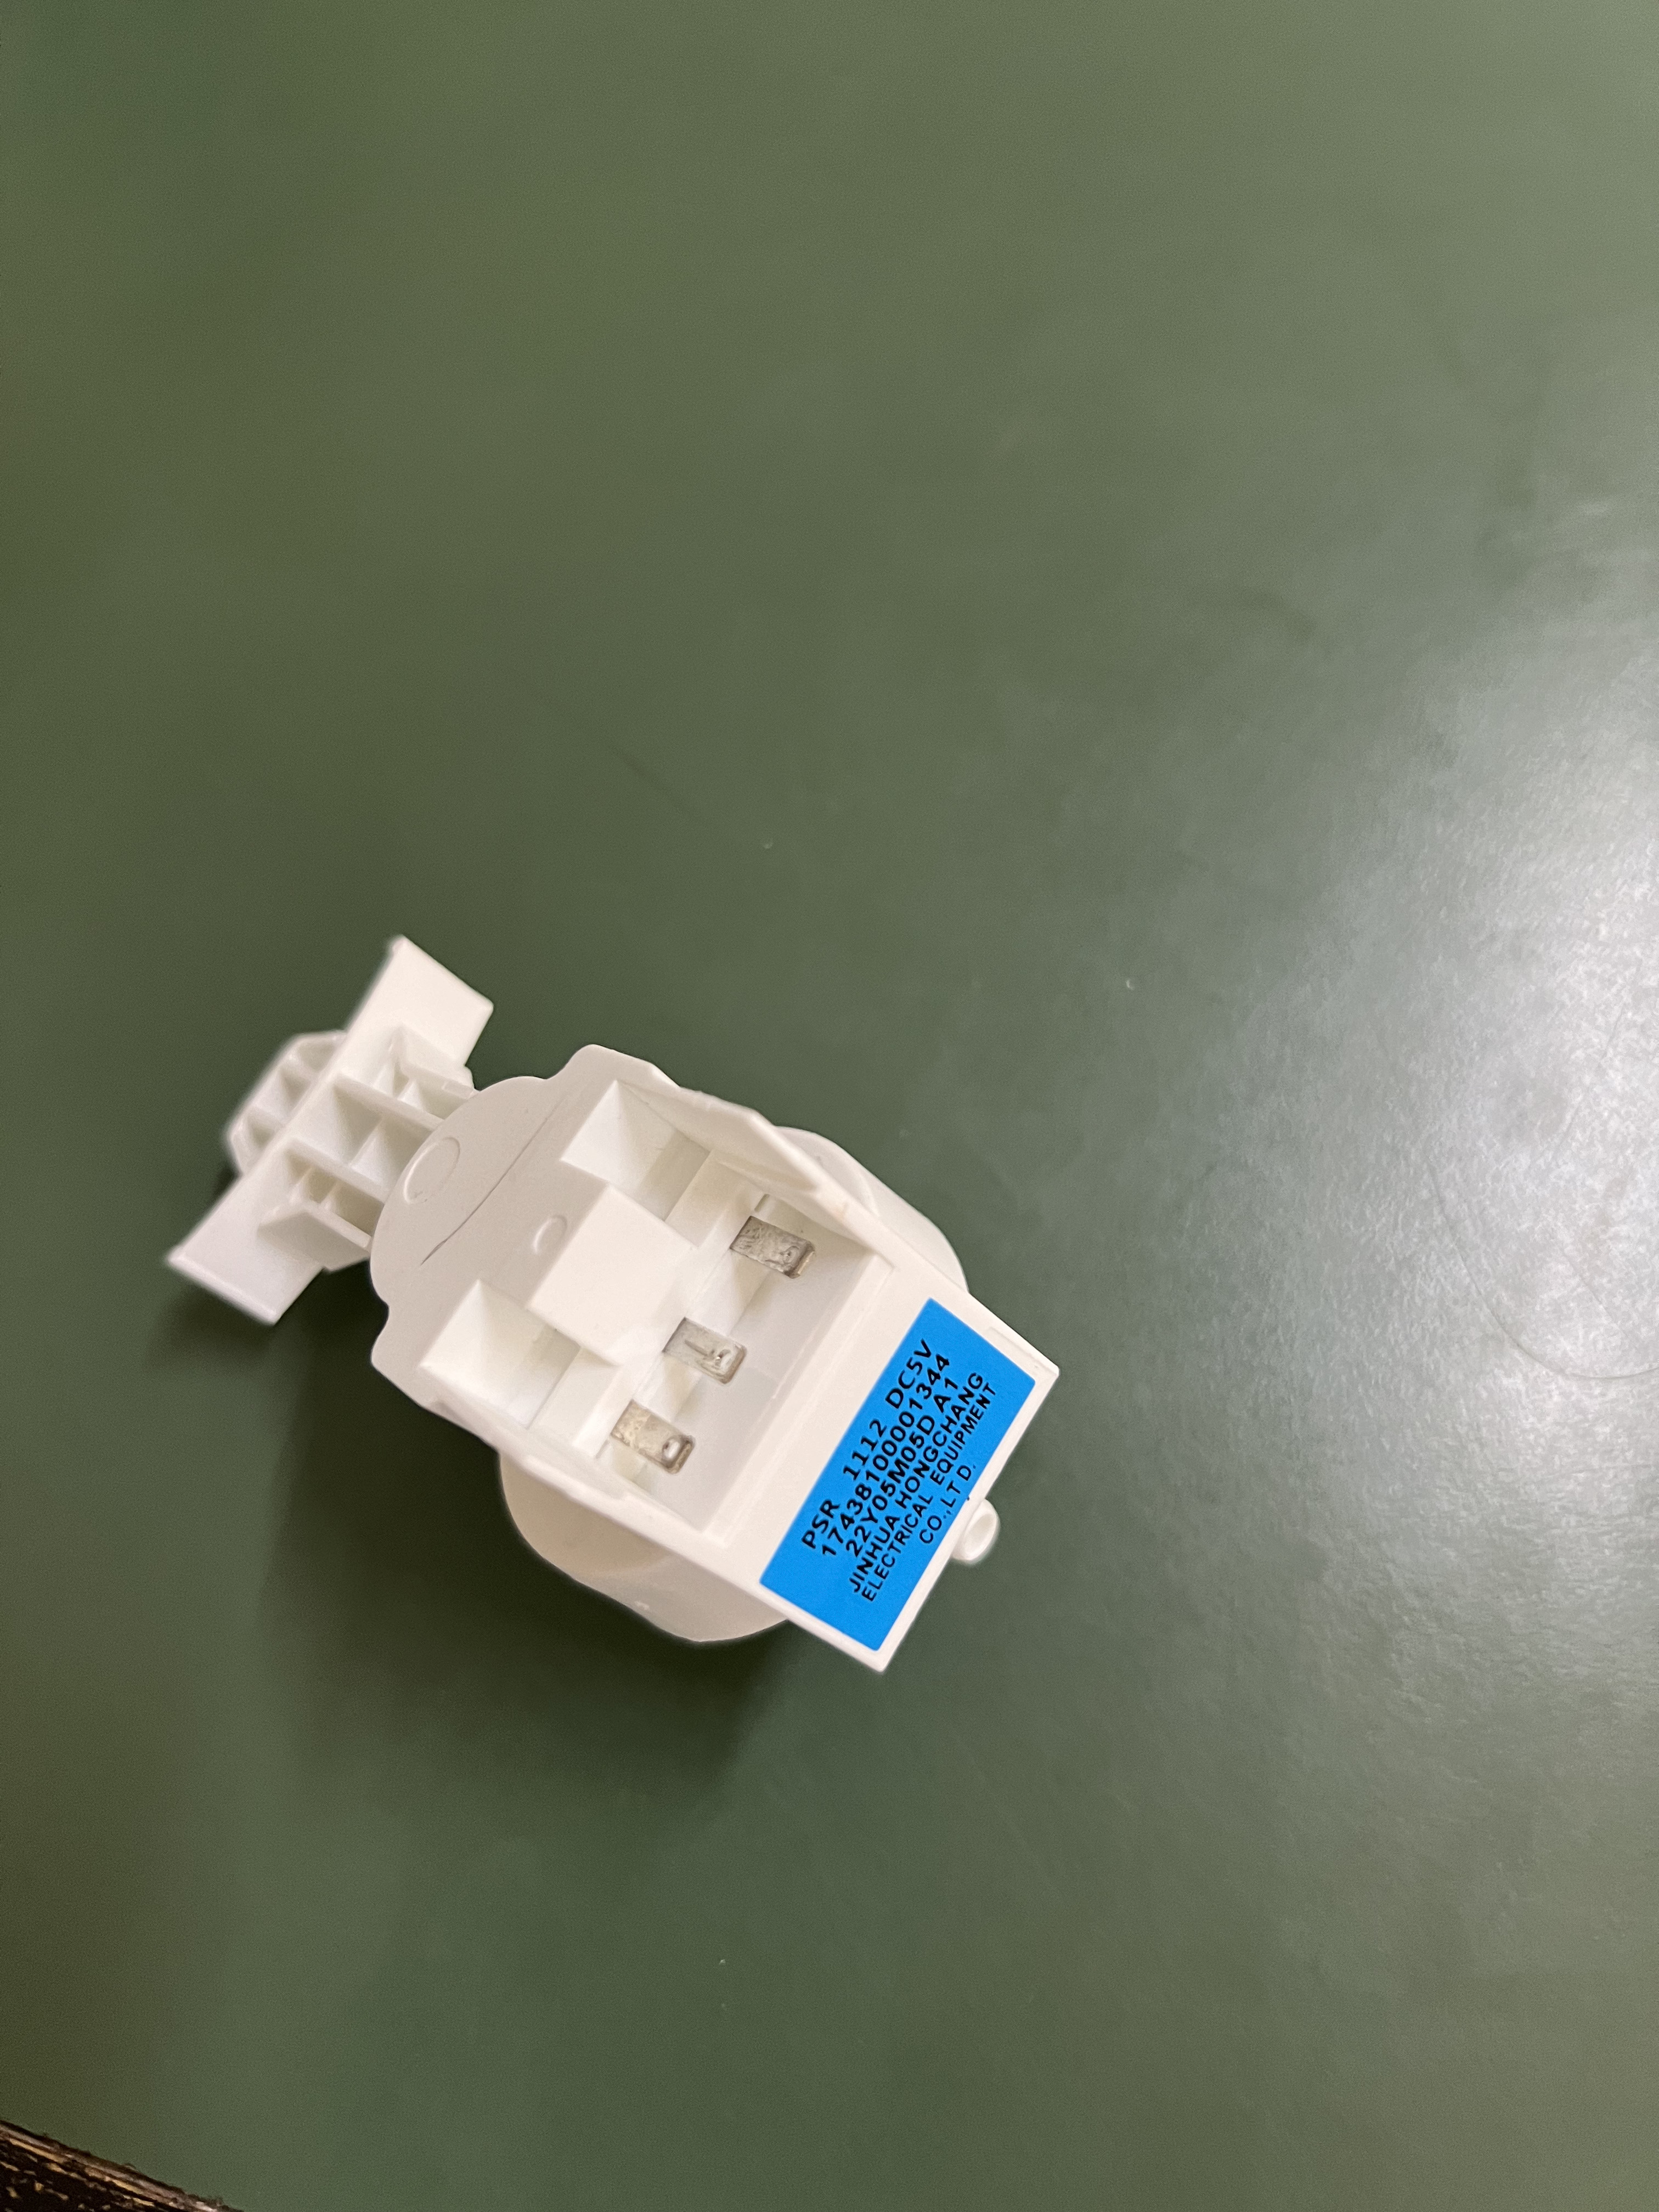pressure_switch_1: (146, 930, 1114, 1670)
